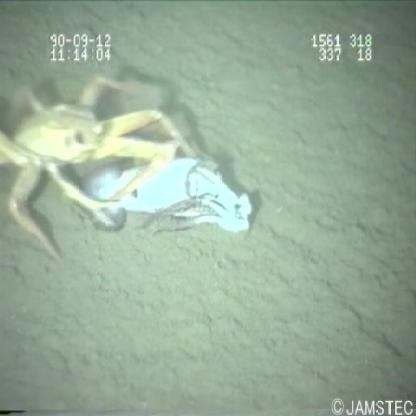Bio: (1, 67, 210, 265), (68, 154, 254, 240)
